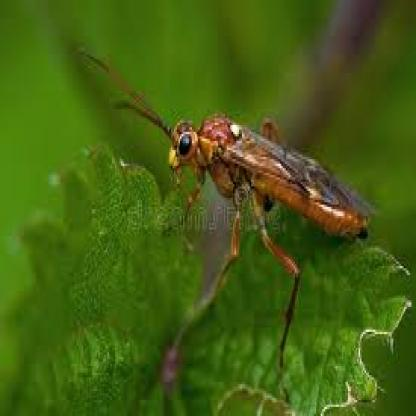sawfly: (82, 47, 380, 368)
